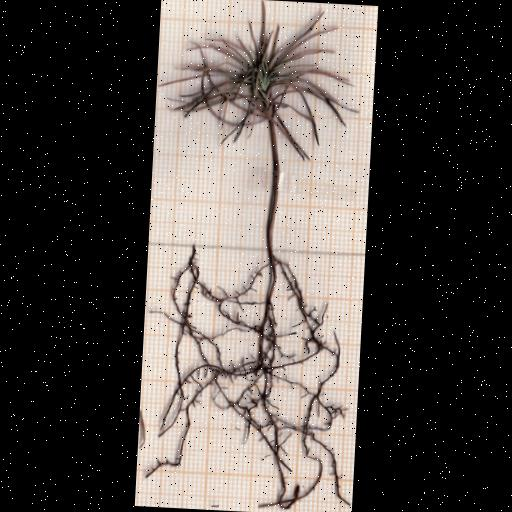flowerCedr: (172, 1, 353, 159)
rootCedr: (147, 248, 342, 509)
stemCedr: (266, 119, 280, 265)
